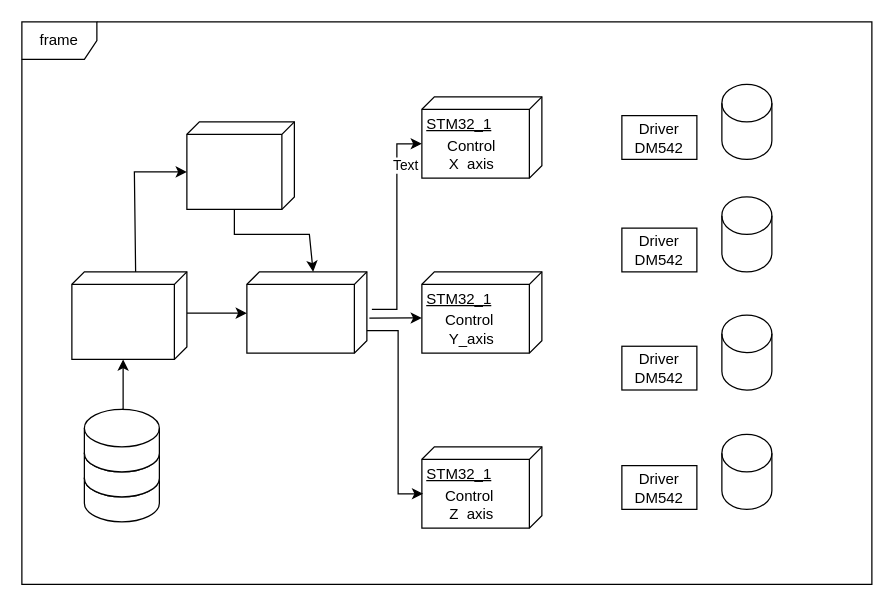
The diagram is 894 pixels wide and 606 high, and some of its shapes have lost their labels. The shapes that lost their labels are listed below. From the top down, each one's box as (x1, y1, x2, y2) in pixels, then its label:
(186, 121, 294, 209): Mobile App
(71, 271, 187, 359): Server
(246, 271, 367, 353): Rasp
